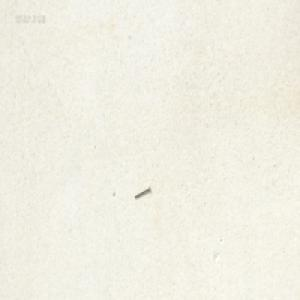Bolt: (133, 186, 150, 199)
